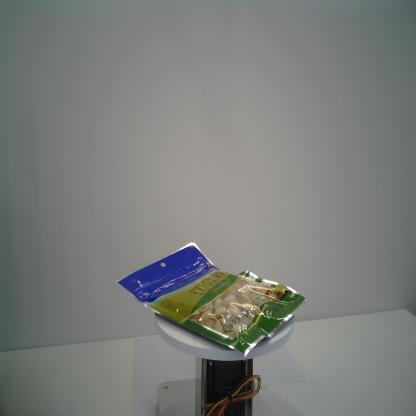Dried Fruit: (115, 240, 307, 358)
